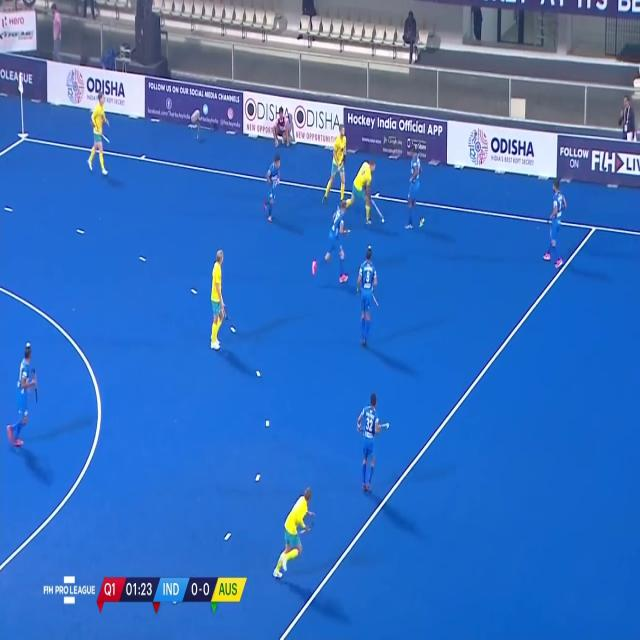ball: (379, 214, 387, 228)
